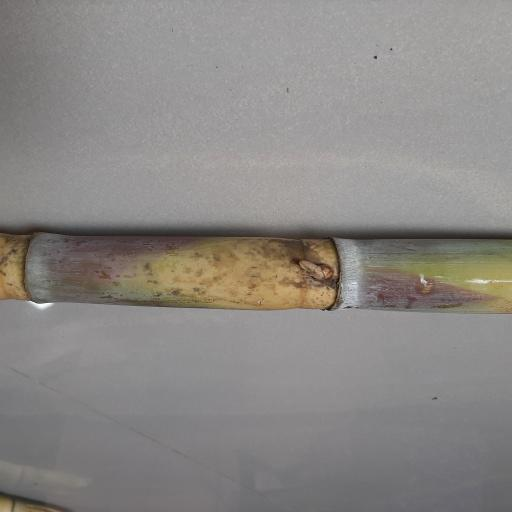Sprouted_Bud: (296, 260, 335, 281)
